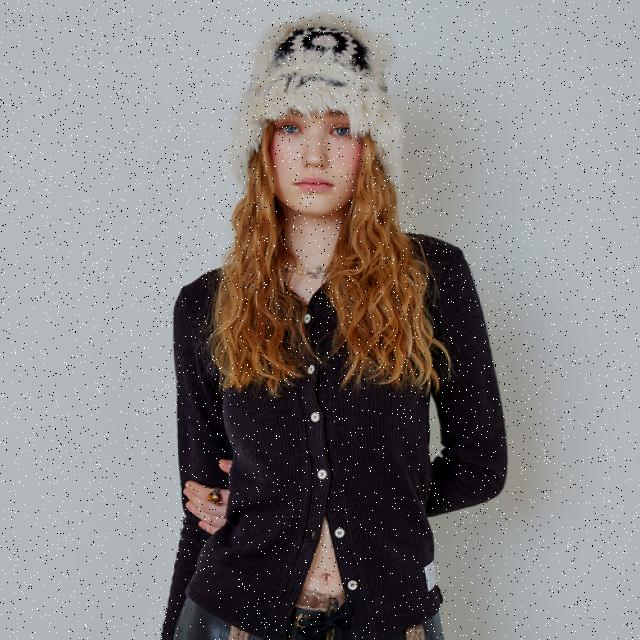Blouse_deep: (160, 230, 506, 639)
